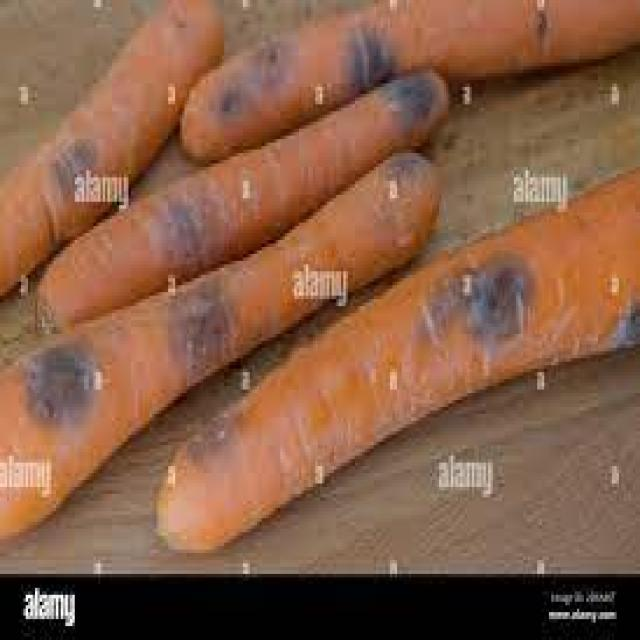Stale_Carrot: (174, 1, 640, 157)
